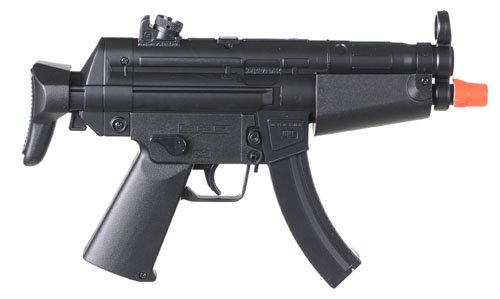rifle: (22, 20, 494, 278)
